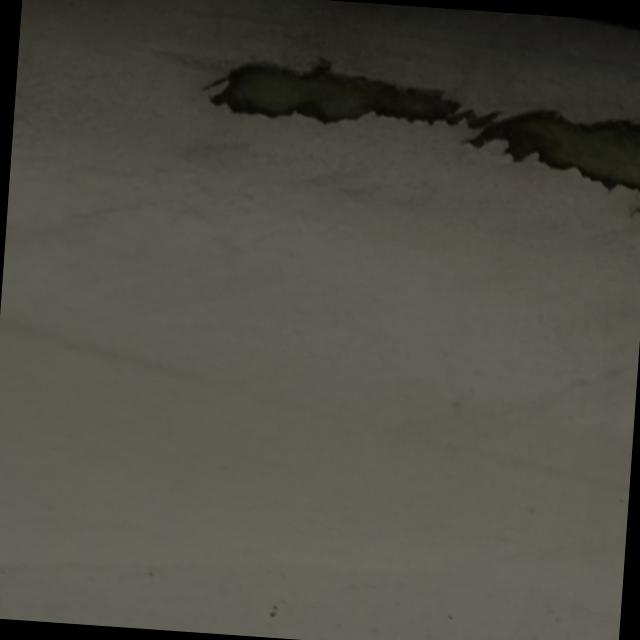surface_peeling: (201, 55, 640, 196)
